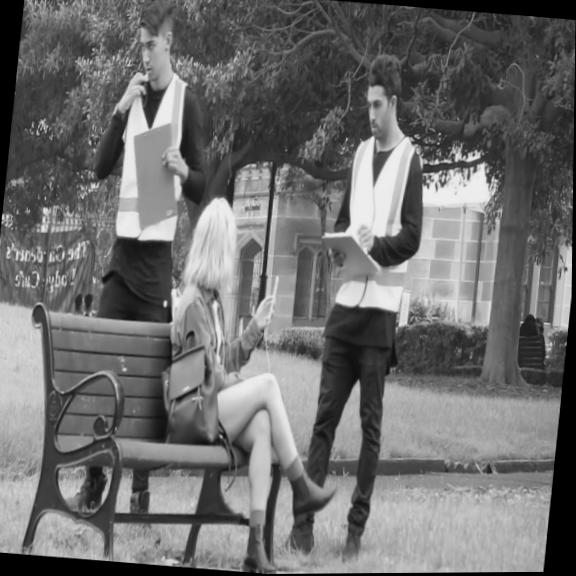safety_vest: (334, 128, 430, 314), (114, 66, 196, 246)
